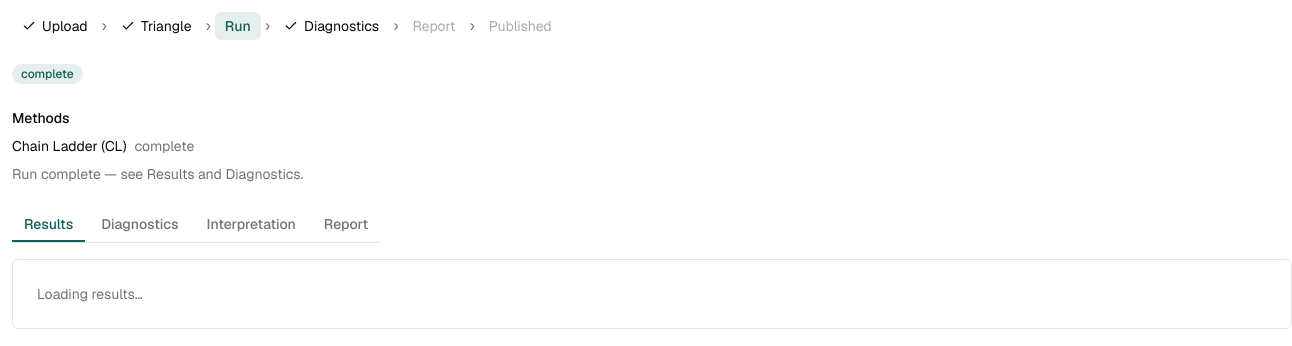
Test: RunDetail (AC2, AC3, AC4) › complete run: the Diagnostics tab is reachable via the step rail
Expected: the text "Loading results…" is shown, [37, 285, 143, 303]
Note: The step rail's Diagnostics step (a button on a complete run) switches tabs.
Click the button "Diagnostics". click: click(332, 26)
box: [274, 12, 389, 40]
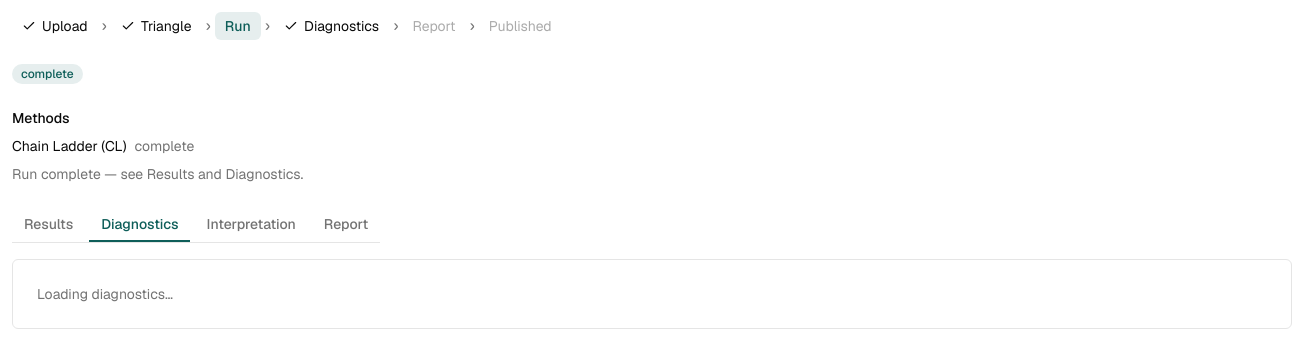
Result: the text "Loading diagnostics…" is shown at [37, 285, 173, 303]
